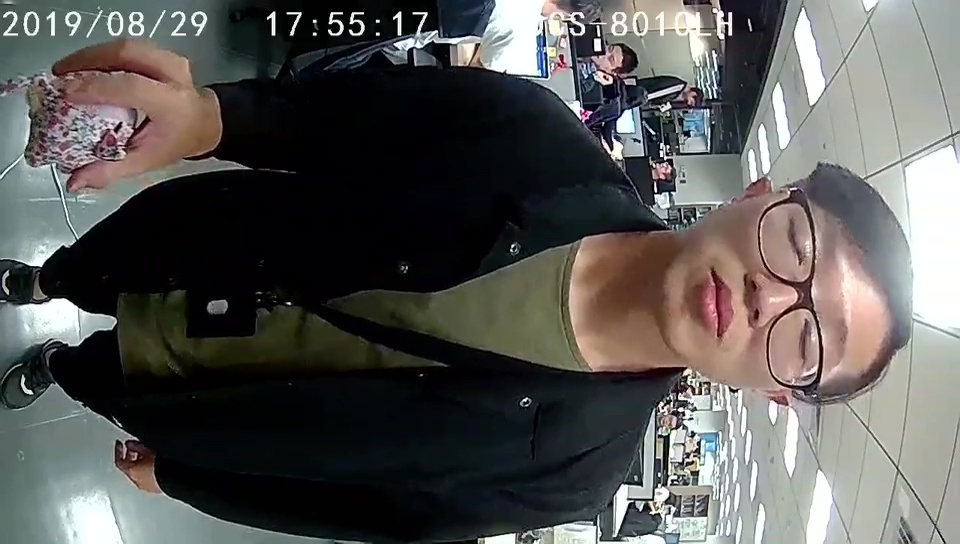pig: (23, 71, 136, 170)
